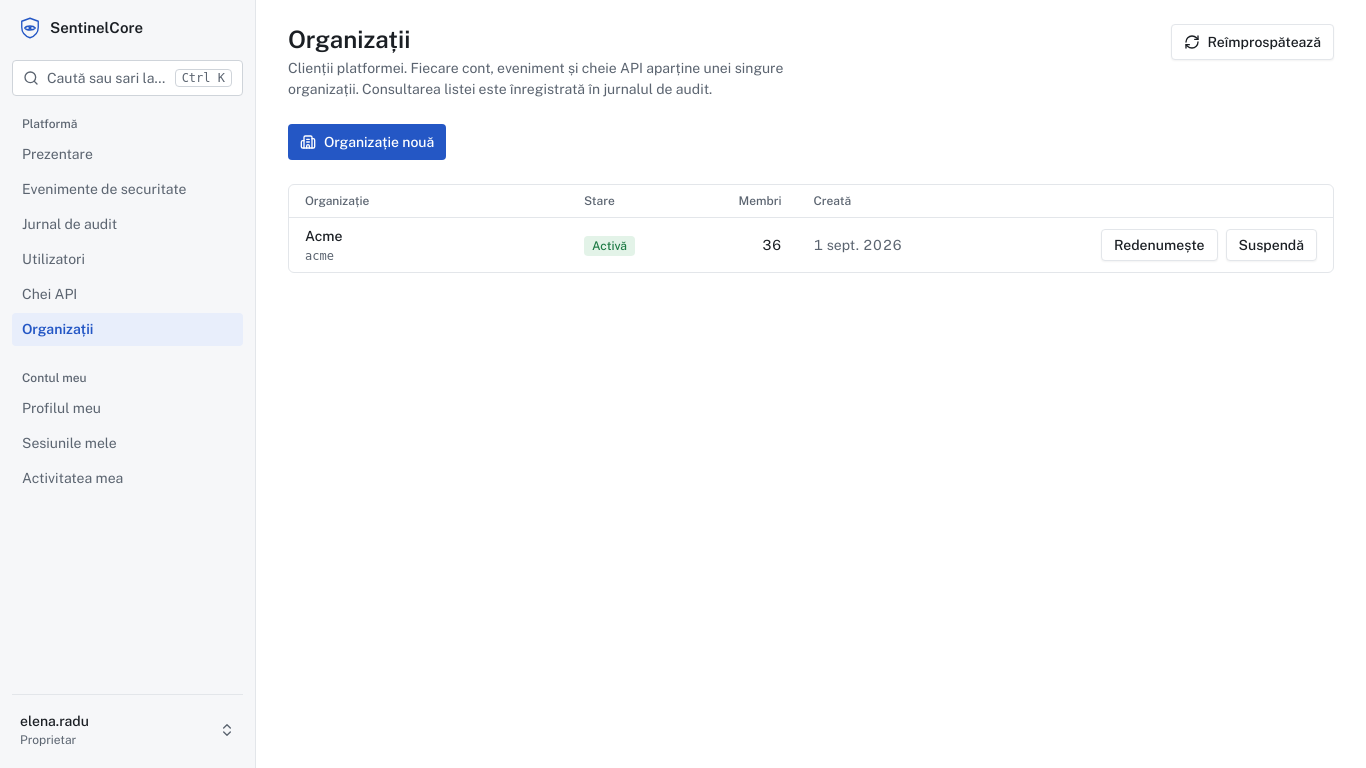
Test: organizations page › suspends an organization only once its slug is typed
Click the button with aria-label "Suspendă Acme" at (1271, 245), box [1226, 229, 1317, 261]
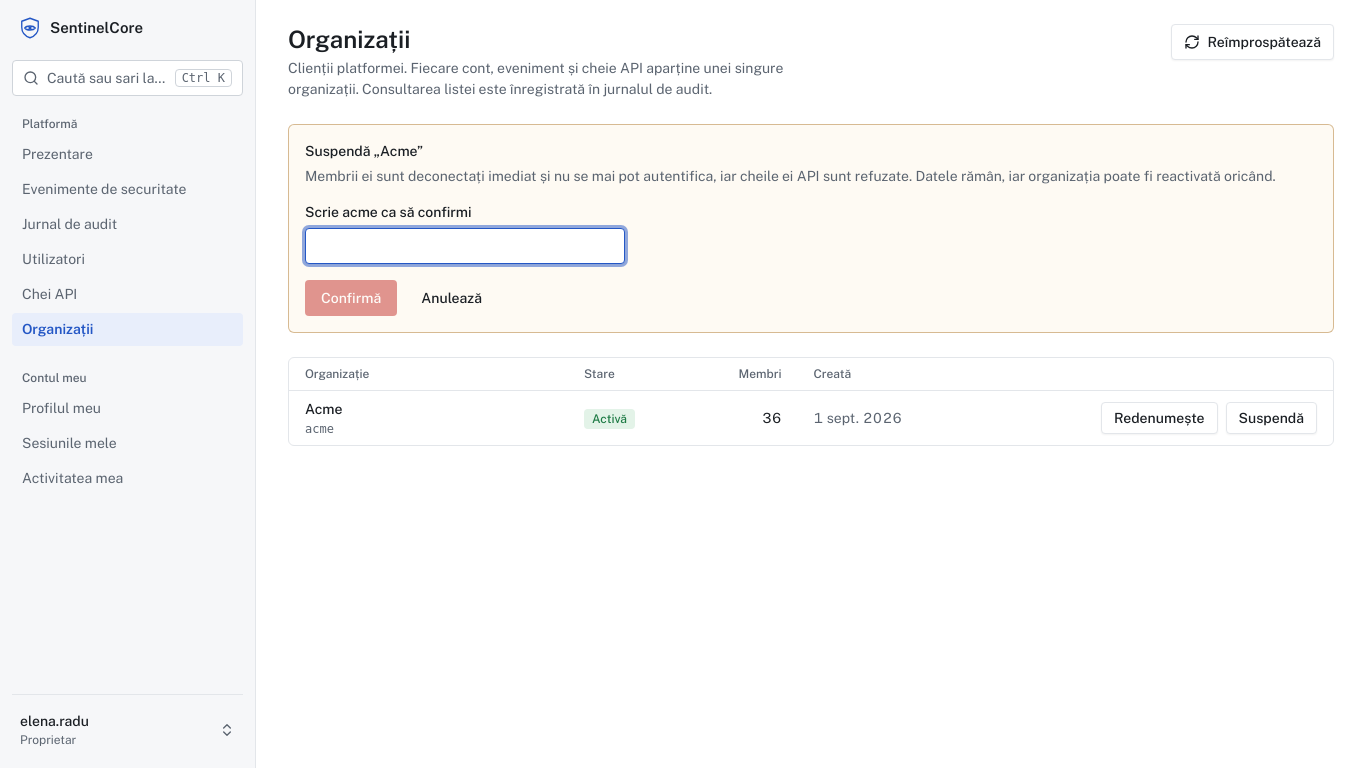
Type "Acme" into the field labelled "Scrie acme ca să confirmi" at (465, 246), box [305, 228, 625, 264]
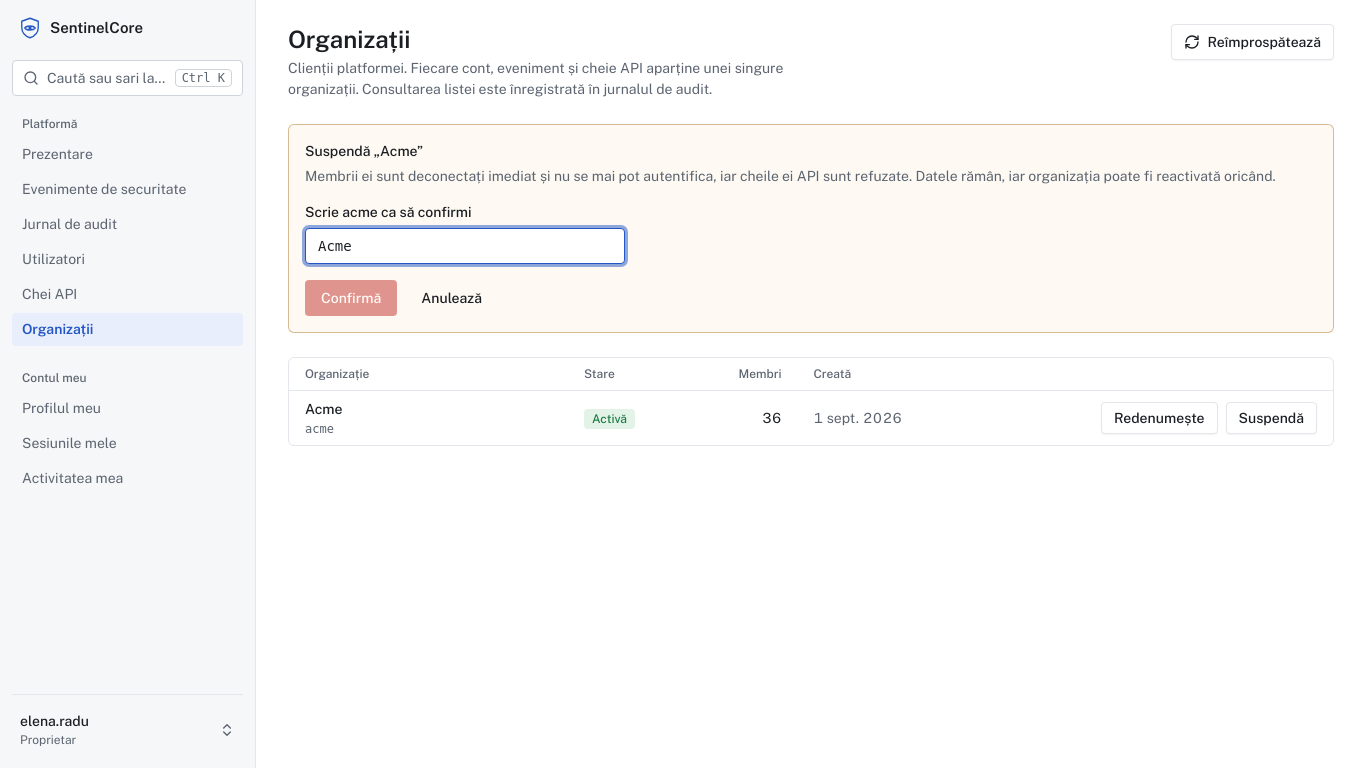
Check: the button "Confirmă" is disabled, box [305, 280, 397, 316]
Replace the text in the field labelled "Scrie acme ca să confirmi" with "acme" at (465, 246), box [305, 228, 625, 264]
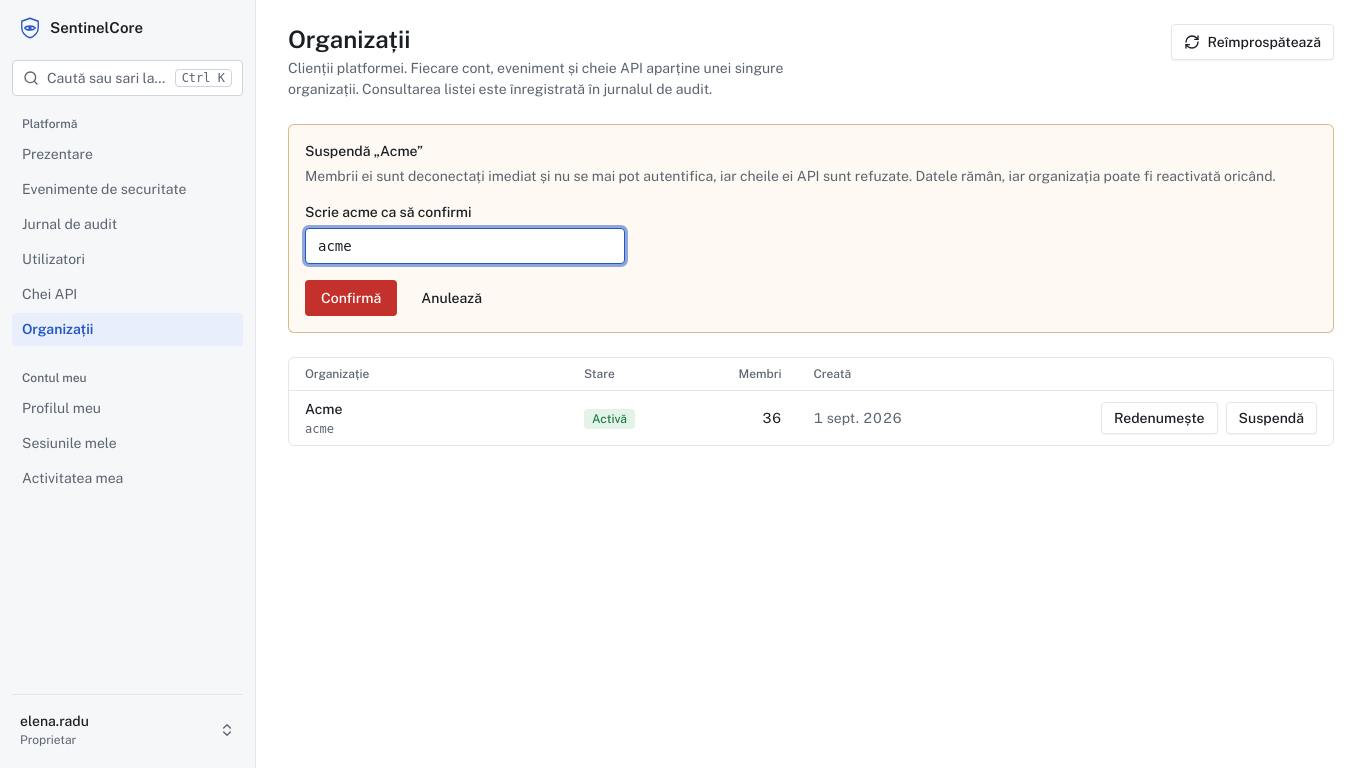
Check: the button "Confirmă" is enabled
Click the button "Confirmă" at (351, 298), box [305, 280, 397, 316]
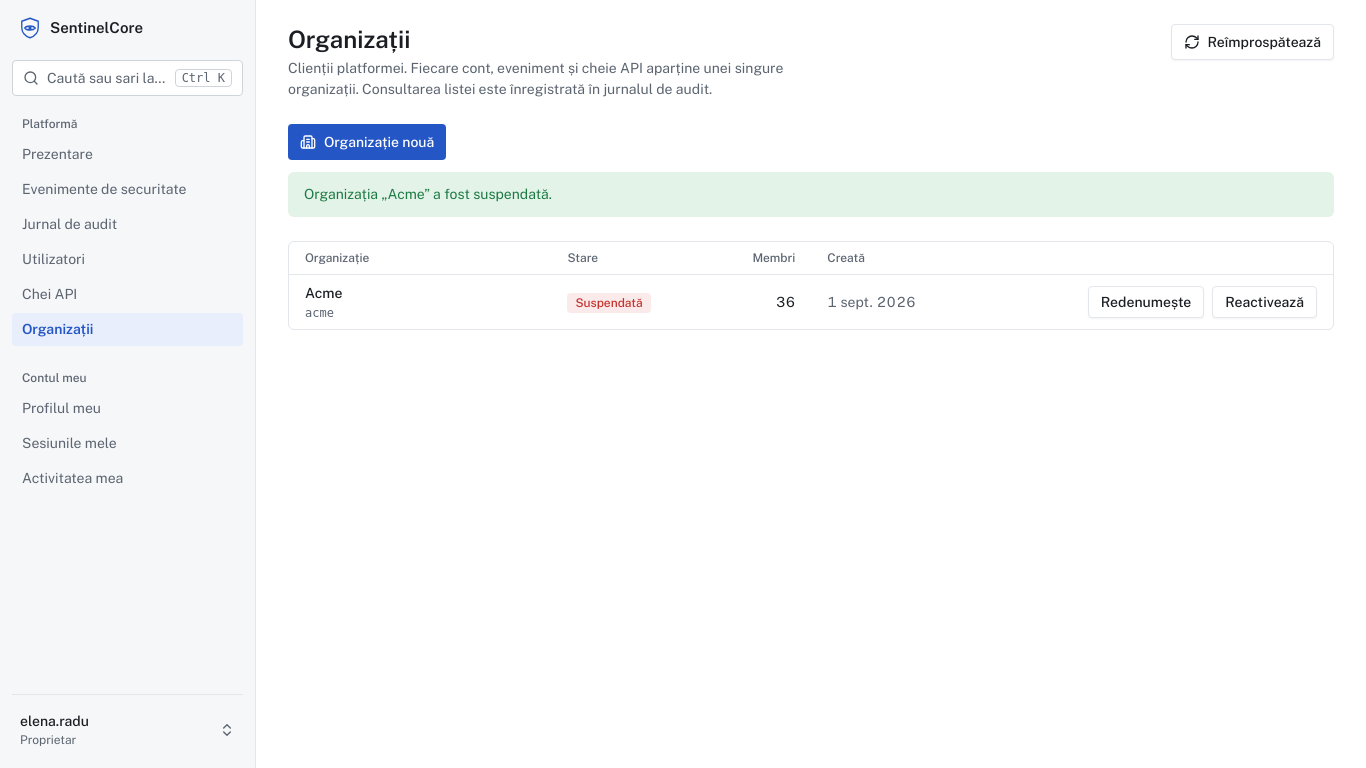
Check: the message reads "Organizația „Acme” a fost suspendată.", box [304, 186, 552, 202]
